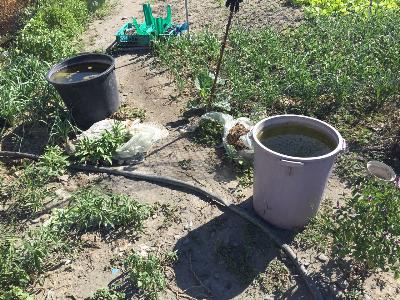bowl: (363, 159, 397, 186)
bucket: (248, 113, 345, 234), (44, 53, 126, 132)
